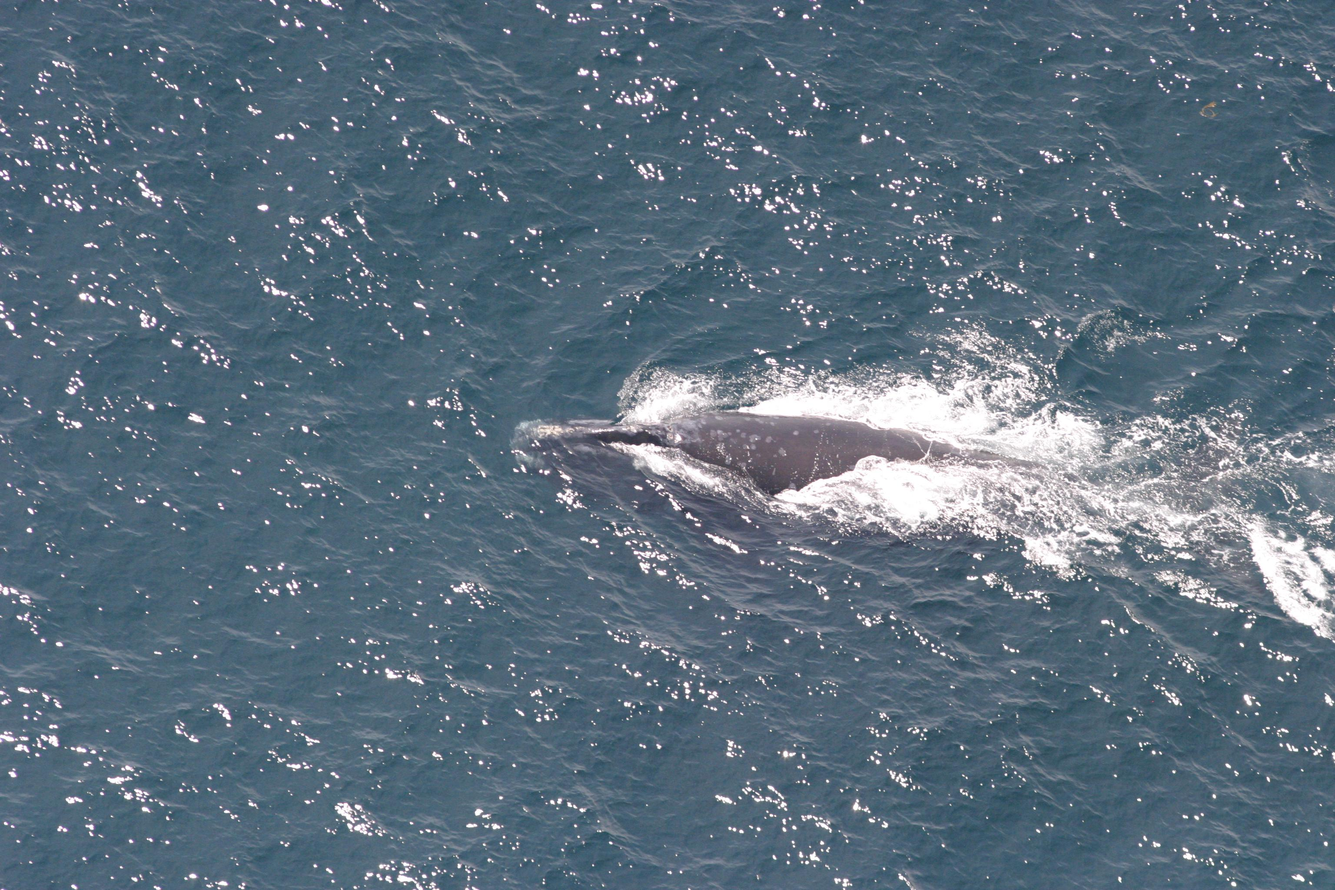whale: (507, 381, 1087, 584)
